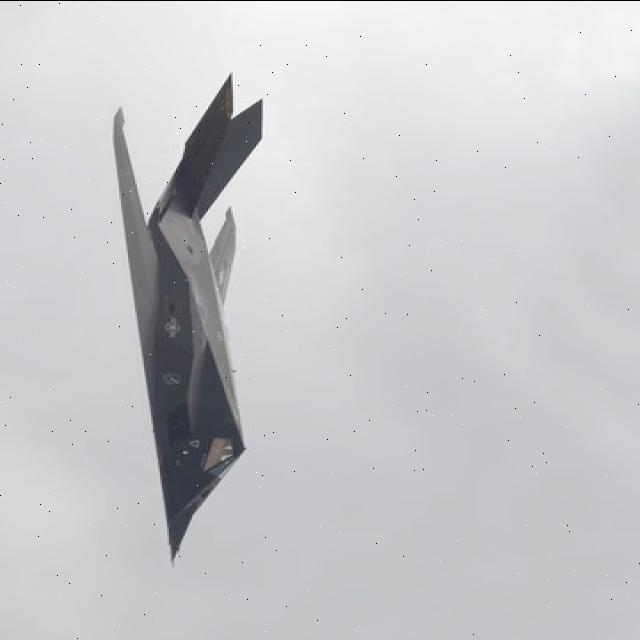F117: (93, 21, 315, 580)
